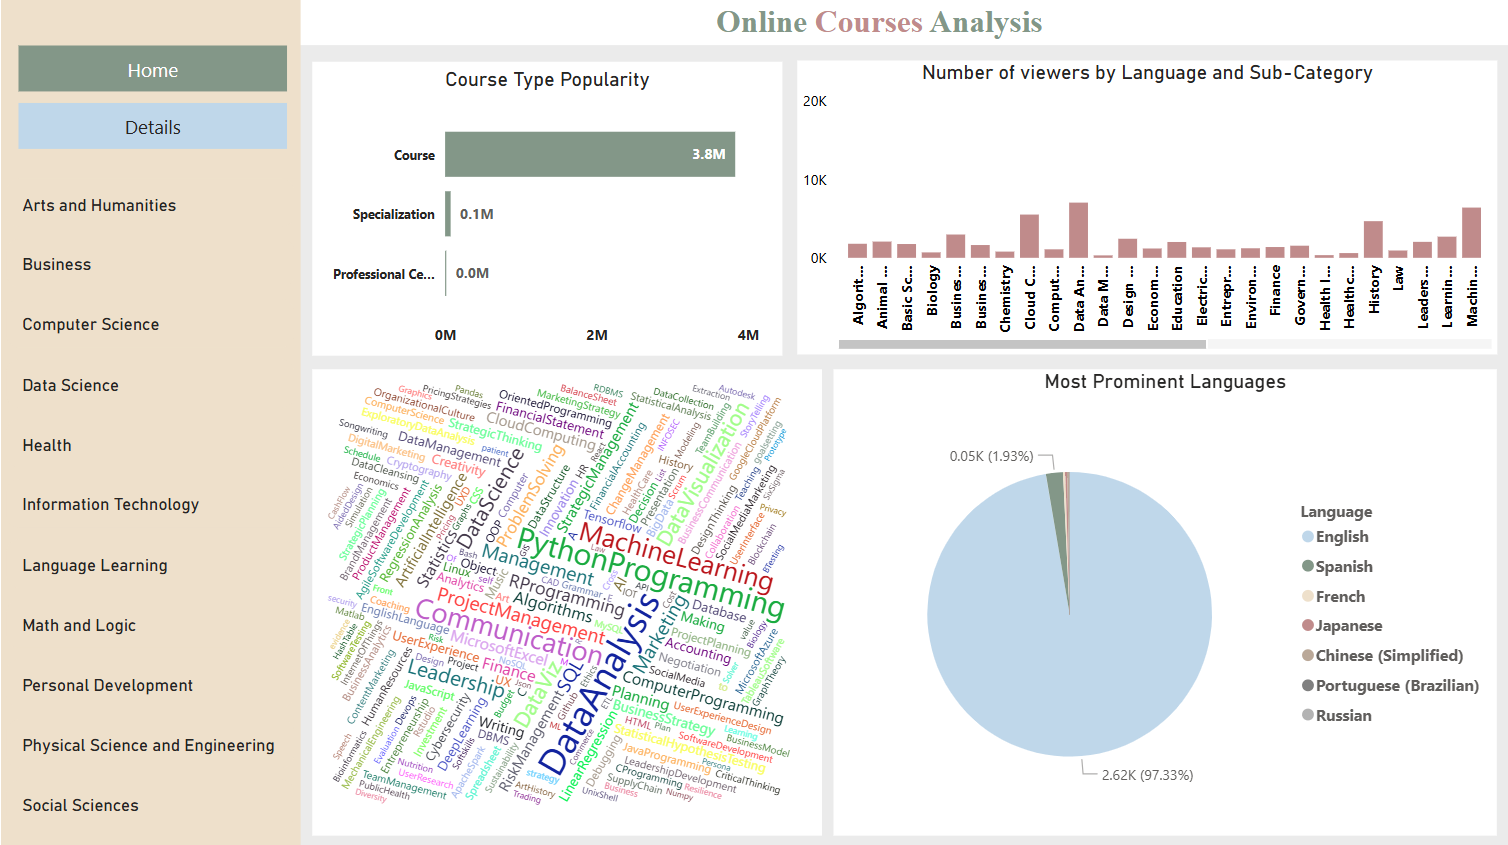

Layout of this report page (visuals, bound fields, positions):
{"tool":"powerbi","page":{"name":"Home","canvas":[1280,720],"ordinal":0},"visuals":[{"type":"textbox","box":[0,0,1280,39.8],"z":0},{"type":"shape","box":[0,0,254.6,720.2],"z":1000},{"type":"advancedSlicerVisual","fields":{"Values":["Online_Courses.Category"]},"box":[0,148.4,254.6,562.2],"z":2000},{"type":"barChart","title":"Course Type Popularity","fields":{"Category":["Online_Courses.Course Type"],"Y":["Sum(Online_Courses.Course id)"]},"box":[264.2,54.3,399.3,249.7],"z":3000},{"type":"columnChart","title":"Number of viewers by Language and Sub-Category","fields":{"Category":["Online_Courses.Sub-Category","Online_Courses.Language"],"Y":["Avg(Online_Courses.Number of viewers)"]},"box":[675.6,53.1,594.8,249.7],"z":4000},{"type":"WordCloud1447959067750","fields":{"Category":["Online_Courses.Skills"]},"box":[264.2,314.9,433.1,395.7],"z":5000},{"type":"pieChart","title":"Most Prominent Languages","fields":{"Category":["Online_Courses.Language"],"Y":["CountNonNull(Online_Courses.Course id)"]},"box":[707,314.9,563.4,395.7],"z":6000},{"type":"pageNavigator","box":[14.5,39.8,228,89.3],"z":7000}]}

Visuals, with their boxes in screenshot pixels (x1, y1, x2, y2), scaled from the page's 1280x720 canvas onto the 1508x845 screenshot:
textbox: left=0, top=0, right=1507, bottom=47
shape: left=0, top=0, right=300, bottom=844
advancedSlicerVisual - Online_Courses.Category: left=0, top=174, right=300, bottom=834
"Course Type Popularity" barChart: left=311, top=64, right=782, bottom=357
"Number of viewers by Language and Sub-Category" columnChart: left=796, top=62, right=1497, bottom=355
WordCloud1447959067750 - Online_Courses.Skills: left=311, top=370, right=822, bottom=834
"Most Prominent Languages" pieChart: left=833, top=370, right=1497, bottom=834
pageNavigator: left=17, top=47, right=286, bottom=152
